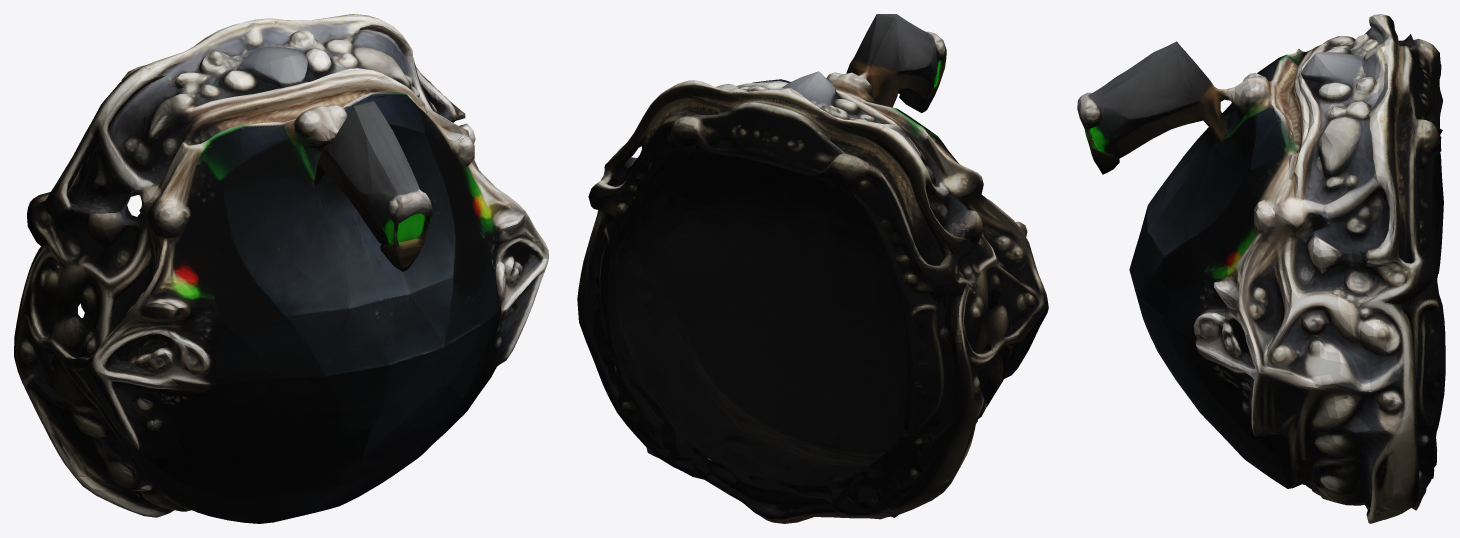
The model's file is stone-ring-vintage.jpeg.glb.
The picture shows the model from 3 angles, left to right: view 1: azimuth 30°, elevation 25°; view 2: azimuth 150°, elevation 25°; view 3: azimuth 270°, elevation 25°; orthographic projection. The views are drawn at different scales.
Parts seen in each view (by area): view 1: world; view 2: world; view 3: world.
Boxes of the visible parts, box(x1,y1,x2,y2) form: world: box(14, 14, 548, 523); world: box(577, 14, 1048, 523); world: box(1077, 14, 1445, 523).
Bounding box in the file's own units: 0.9906 × 0.9975 × 0.744.
1 material, 1 textured.
